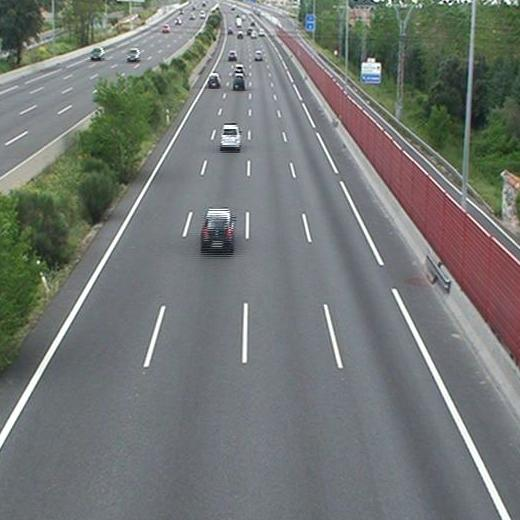car: (201, 209, 233, 249), (221, 126, 240, 147), (207, 73, 221, 88), (234, 74, 245, 89), (228, 51, 238, 62), (253, 51, 263, 61), (234, 66, 244, 74)
